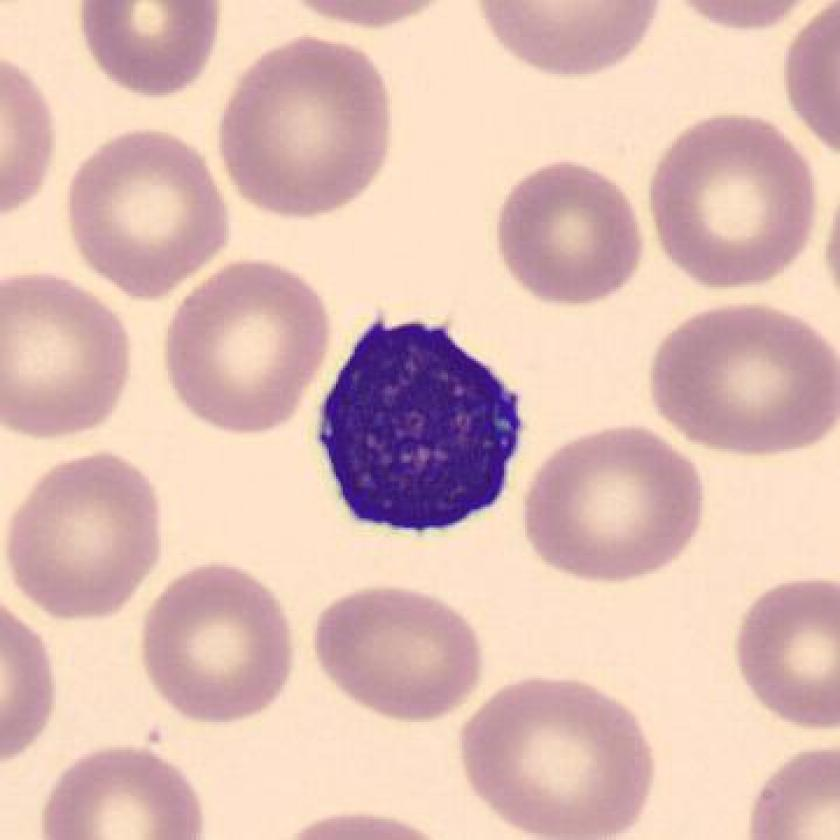lymphocyte: (307, 290, 538, 561)
